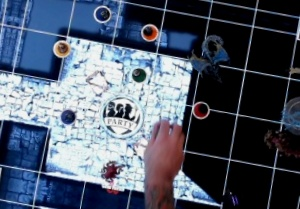blue: (88, 1, 114, 27)
green: (129, 64, 147, 82)
orange: (136, 19, 159, 45)
red: (186, 96, 210, 119)
violet: (55, 104, 79, 127)
yellow: (48, 34, 71, 59)
